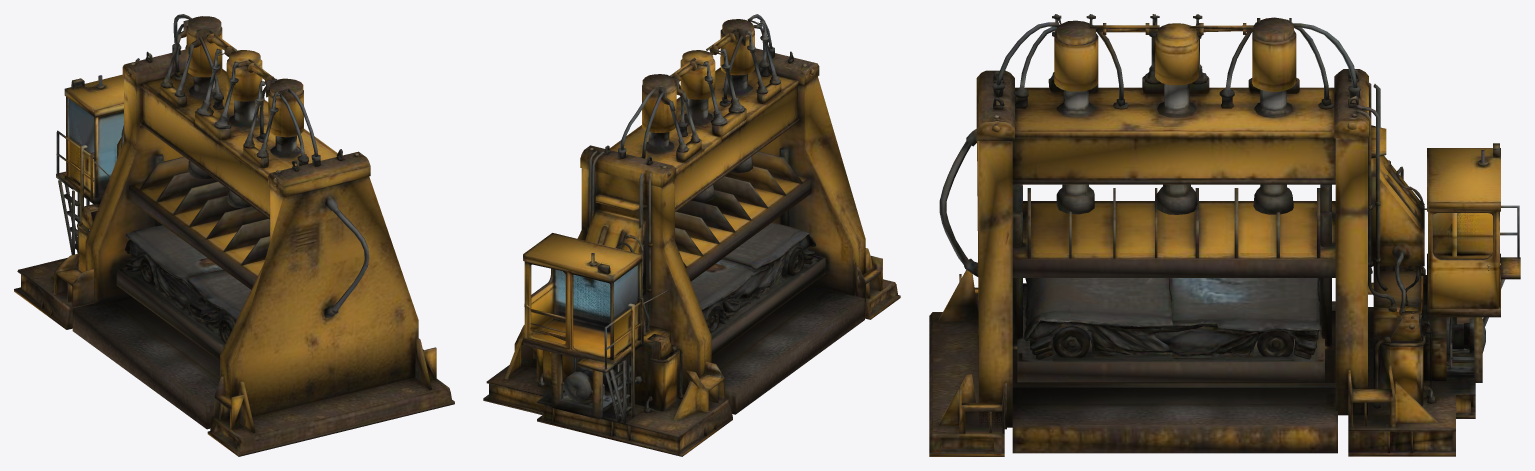
The model's file is carCrusher.glb.
3 renders of one model, left to right at view 1: azimuth 30°, elevation 25°; view 2: azimuth 150°, elevation 25°; view 3: azimuth 270°, elevation 25°, orthographic. The views are drawn at different scales.
Visible parts, largest first — view 1: tripo_node_a8be7b95-3a65-4117-8ceb-89f99b07632b; view 2: tripo_node_a8be7b95-3a65-4117-8ceb-89f99b07632b; view 3: tripo_node_a8be7b95-3a65-4117-8ceb-89f99b07632b.
Boxes of the visible parts, left/top/right/bottom form: tripo_node_a8be7b95-3a65-4117-8ceb-89f99b07632b: left=14, top=14, right=454, bottom=456; tripo_node_a8be7b95-3a65-4117-8ceb-89f99b07632b: left=483, top=14, right=900, bottom=456; tripo_node_a8be7b95-3a65-4117-8ceb-89f99b07632b: left=929, top=14, right=1520, bottom=456.
Size of the model in its own units: 0.5098 by 0.6855 by 0.998.
Materials: 1 (1 with a texture image).
